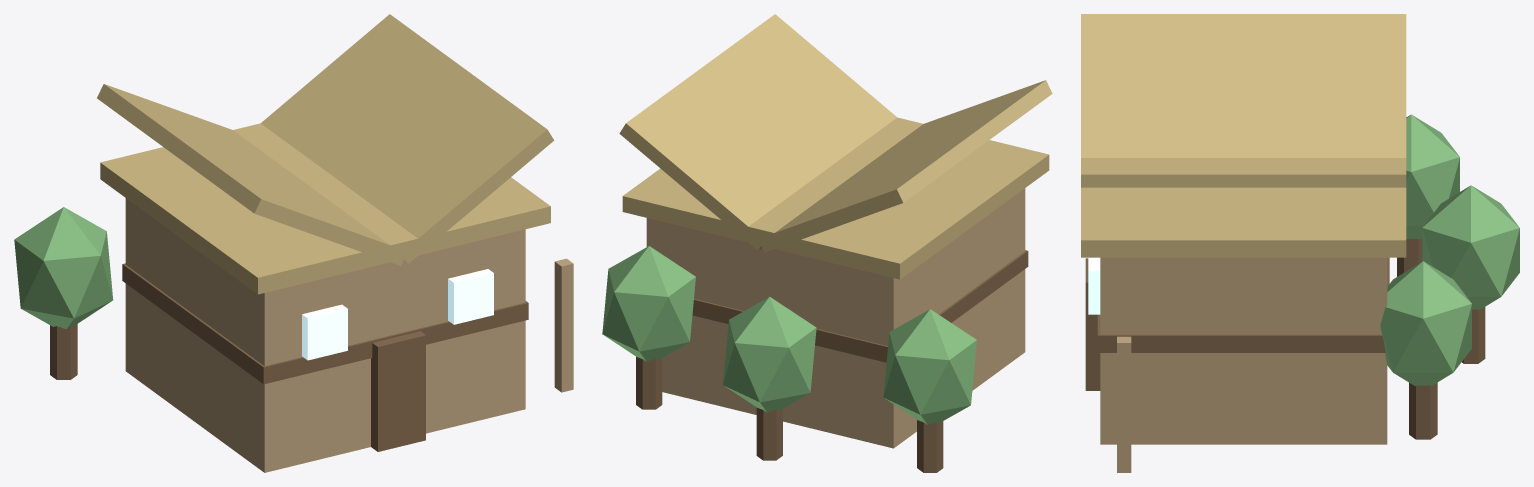
Rendered from forester.glb.
3 views of the same model, side by side, from view 1: azimuth 30°, elevation 25°; view 2: azimuth 150°, elevation 25°; view 3: azimuth 270°, elevation 25° (orthographic). The views are drawn at different scales.
Parts seen in each view (by area): view 1: ForesterWall, ForesterRoofSlabR, ForesterRoof, ForesterRoofSlabL, SaplingCrown0, ForesterRail, ForesterDoor, Spade, ForesterWindow2, ForesterWindow, SaplingTrunk0; view 2: ForesterWall, ForesterRoofSlabR, ForesterRoof, ForesterRoofSlabL, SaplingCrown2, SaplingCrown0, SaplingCrown1, ForesterRail, SaplingTrunk2, SaplingTrunk1, SaplingTrunk0; view 3: ForesterWall, ForesterRoofSlabL, ForesterRoof, ForesterRoofSlabR, SaplingCrown2, SaplingCrown1, ForesterRail, SaplingCrown0, Spade, SaplingTrunk2, ForesterDoor, SaplingTrunk1 (+2 smaller).
Boxes of the visible parts, x1,y1,x2,y2 form: ForesterWall: (125, 198, 525, 472); ForesterRoofSlabR: (261, 14, 554, 263); ForesterRoof: (100, 123, 550, 294); ForesterRoofSlabL: (97, 84, 406, 265); SaplingCrown0: (14, 207, 113, 329); ForesterRail: (122, 263, 528, 384); ForesterDoor: (371, 331, 425, 451); Spade: (554, 258, 573, 392); ForesterWindow2: (302, 304, 347, 360); ForesterWindow: (448, 269, 493, 324); SaplingTrunk0: (50, 324, 77, 379); ForesterWall: (646, 188, 1025, 448); ForesterRoofSlabR: (619, 14, 897, 250); ForesterRoof: (622, 117, 1049, 279); ForesterRoofSlabL: (758, 80, 1052, 252); SaplingCrown2: (602, 246, 695, 361); SaplingCrown0: (883, 309, 976, 424); SaplingCrown1: (723, 297, 816, 412); ForesterRail: (692, 250, 1028, 362); SaplingTrunk2: (636, 356, 662, 409); SaplingTrunk1: (756, 407, 782, 460); SaplingTrunk0: (917, 420, 943, 472); ForesterWall: (1100, 257, 1387, 444); ForesterRoofSlabL: (1081, 14, 1406, 157); ForesterRoof: (1081, 187, 1406, 257); ForesterRoofSlabR: (1081, 158, 1406, 187); SaplingCrown2: (1380, 261, 1471, 385); SaplingCrown1: (1422, 185, 1519, 310); ForesterRail: (1097, 257, 1389, 352); SaplingCrown0: (1406, 114, 1459, 239); Spade: (1117, 336, 1131, 472); SaplingTrunk2: (1409, 382, 1437, 439); ForesterDoor: (1085, 258, 1100, 390); SaplingTrunk1: (1462, 307, 1485, 363).
Size of the model in its own units: 2.04 by 1.35 by 1.83.
